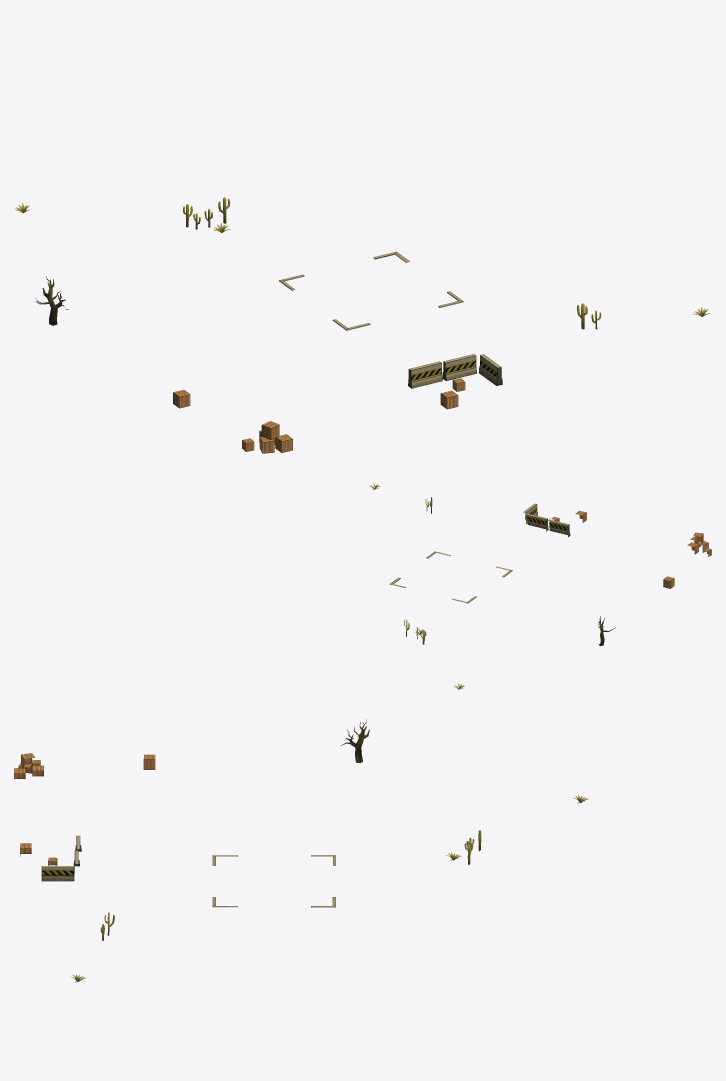
File: T1_tree_bush_devider_env.fbx
3 views of the same model, one above another, from view 1: azimuth 30°, elevation 25°; view 2: azimuth 150°, elevation 25°; view 3: azimuth 270°, elevation 25° (orthographic). The views are drawn at different scales.
Visible parts, largest first — view 1: army_base_04, pCube290, pCube289; view 2: army_base_04; view 3: army_base_04.
Part boxes in pixels (bbox=[...]): army_base_04: bbox=[15, 197, 710, 329]; pCube290: bbox=[408, 361, 442, 388]; pCube289: bbox=[442, 354, 476, 380]; army_base_04: bbox=[369, 483, 615, 689]; army_base_04: bbox=[70, 719, 588, 982].
Size of the model in its own units: 446 by 27.82 by 419.
